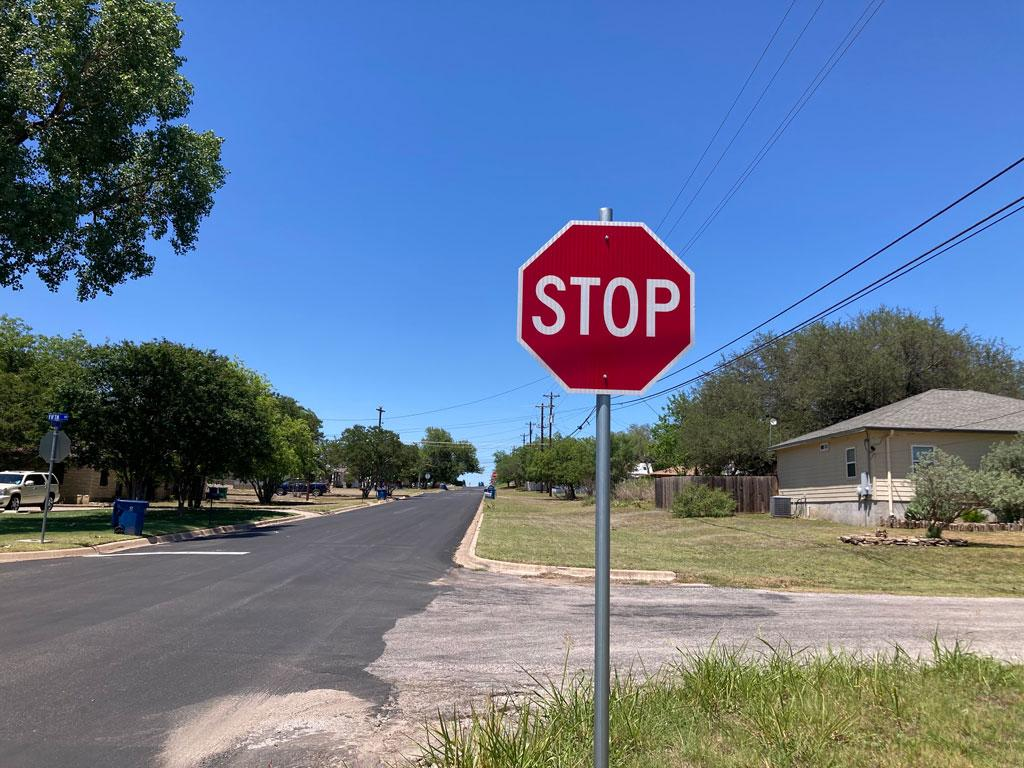Pole: (594, 396, 614, 767)
Sign: (518, 220, 696, 394)
